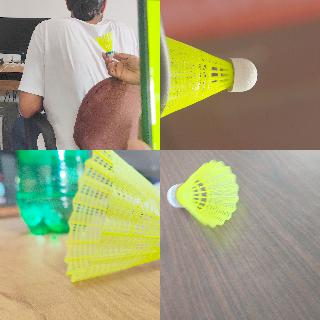shuttlecock: (63, 150, 159, 284), (166, 37, 256, 115), (166, 159, 238, 227), (92, 31, 115, 57)
